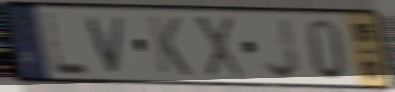0: (304, 17, 350, 82)
J: (262, 16, 302, 82)
K: (146, 14, 194, 78)
L: (42, 10, 93, 77)
V: (83, 14, 129, 76)
X: (191, 14, 247, 81)
